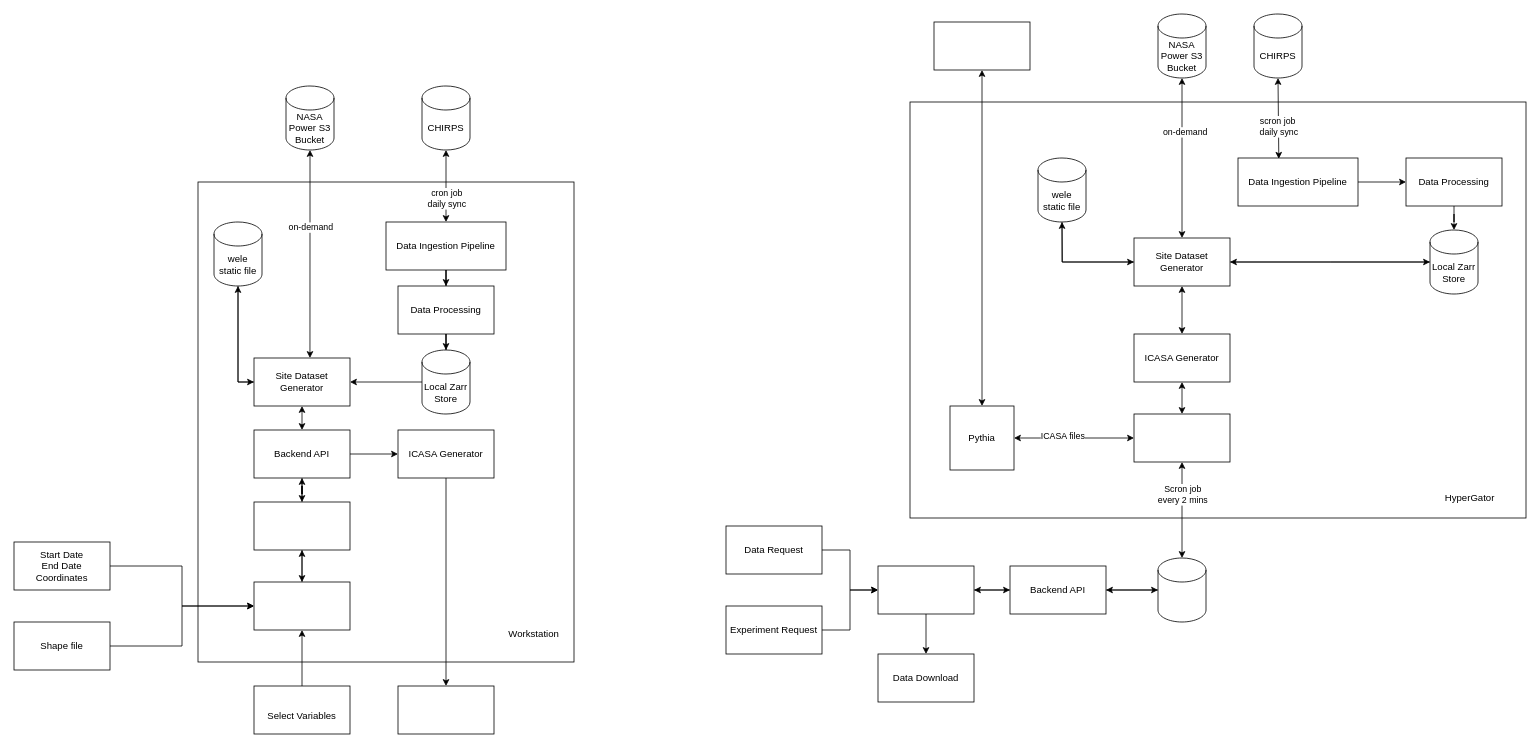
Image size: 1540x748. Some labels were removed from this diagram. The centre of each missing label's shape, as x and y in pixels:
Downloadable Site Packages: the point at 445,709
Firebase DB: the point at 1181,589
GSSAT: the point at 981,45
Interactive UI Dashboard: the point at 301,605
Pipeline Backend API: the point at 1181,437
UI: the point at 925,589
Visualization Engine: the point at 301,525
